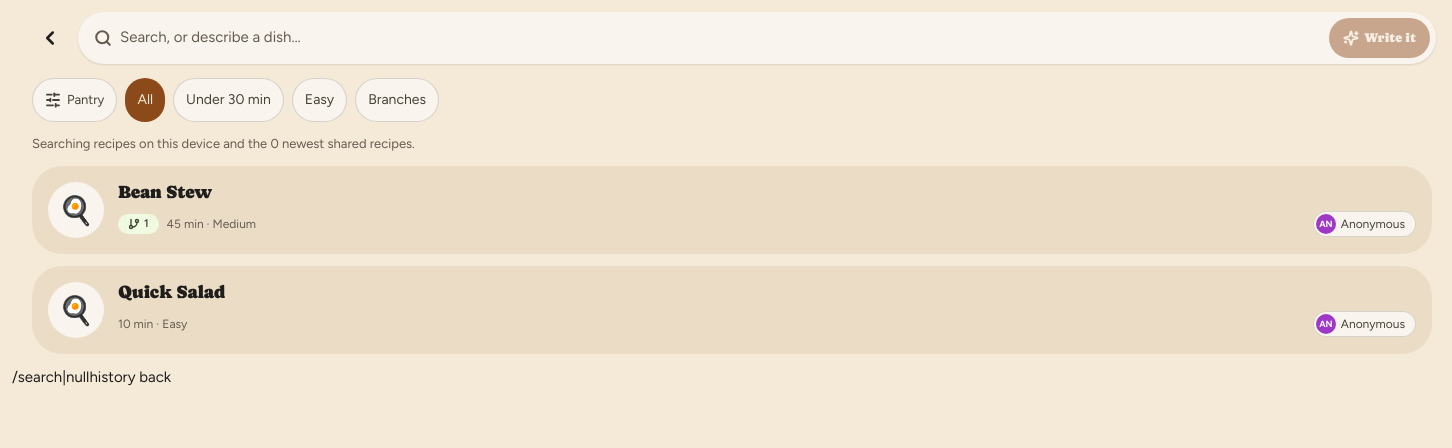
Test: SearchPage › shows a branch with its family label and its prompt
Type "stew" into the search field named "Search recipes, or describe a dish" at (720, 38), box [120,26,1321,50]
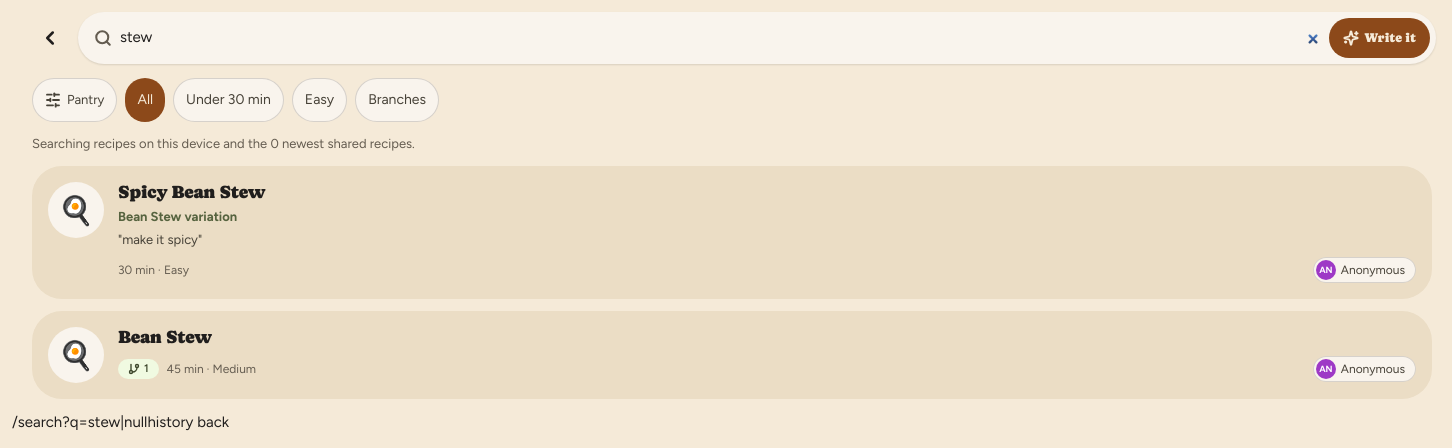
Now the text "Bean Stew variation" is shown, box [118,209,237,224]
Now the text "\"make it spicy\"" is shown, box [118,232,202,247]
